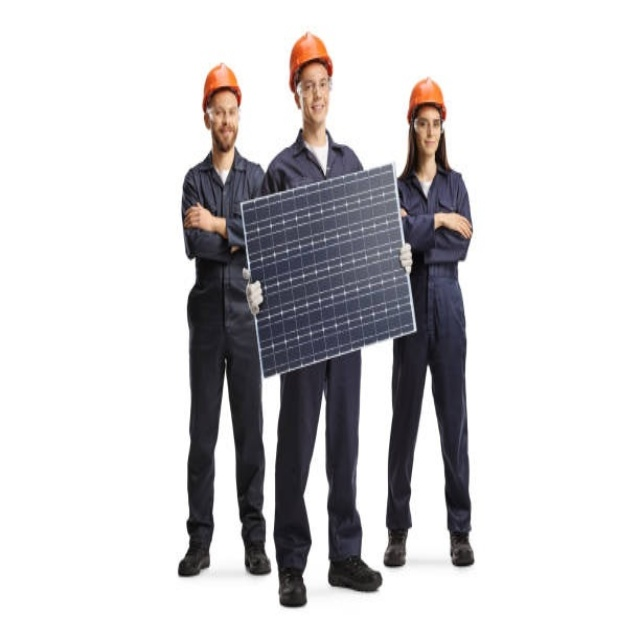Gafas: (293, 77, 334, 97), (411, 113, 447, 133), (205, 102, 239, 119)
Guantes: (246, 280, 263, 317), (400, 242, 413, 274)
Sin_guantes: (183, 196, 215, 232), (438, 210, 472, 242)
Sin_mascara: (307, 100, 329, 125), (215, 121, 234, 146), (420, 136, 438, 154)
